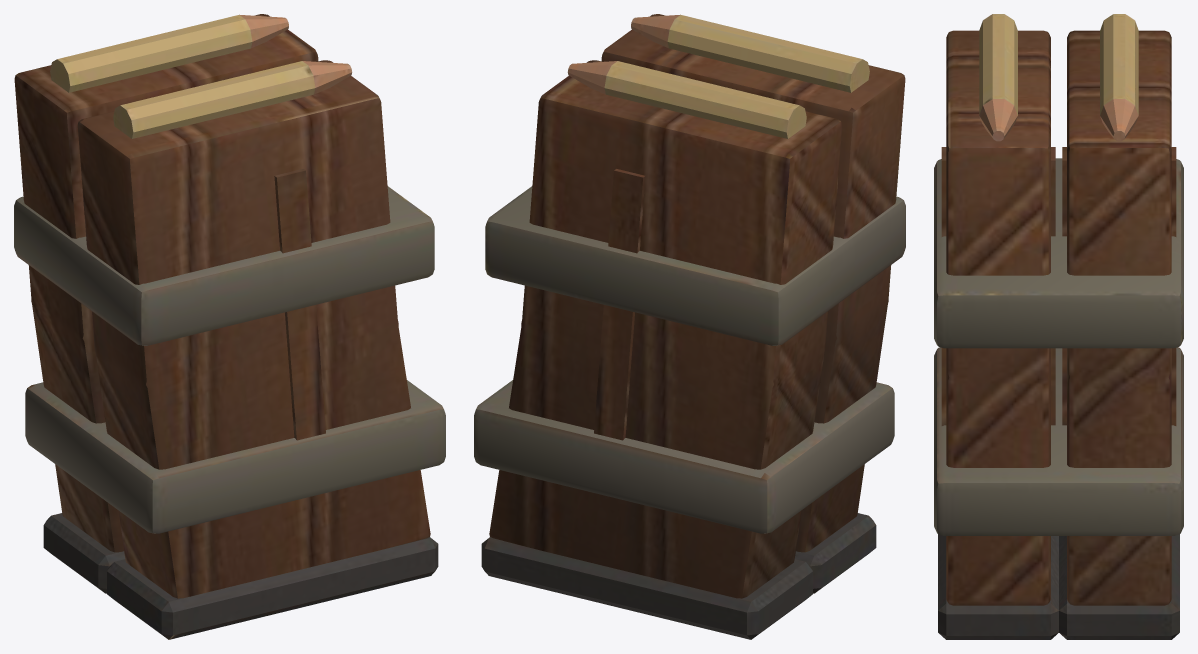
Rendered from twin_taped_mags.glb.
3 renders of one model, left to right at view 1: azimuth 30°, elevation 25°; view 2: azimuth 150°, elevation 25°; view 3: azimuth 270°, elevation 25°, orthographic. The views are drawn at different scales.
Visible parts, largest first — view 1: twin_taped_mags, Spare; view 2: Spare, twin_taped_mags; view 3: twin_taped_mags, Spare.
Part boxes in pixels (<box>): twin_taped_mags: <box>14,60,445,639</box>; Spare: <box>14,14,318,593</box>; Spare: <box>481,60,842,639</box>; twin_taped_mags: <box>474,14,905,593</box>; twin_taped_mags: <box>934,14,1183,639</box>; Spare: <box>1059,14,1179,639</box>.
Size of the model in its own units: 0.0864 by 0.1356 by 0.062.
Materials: 1 (1 with a texture image).
